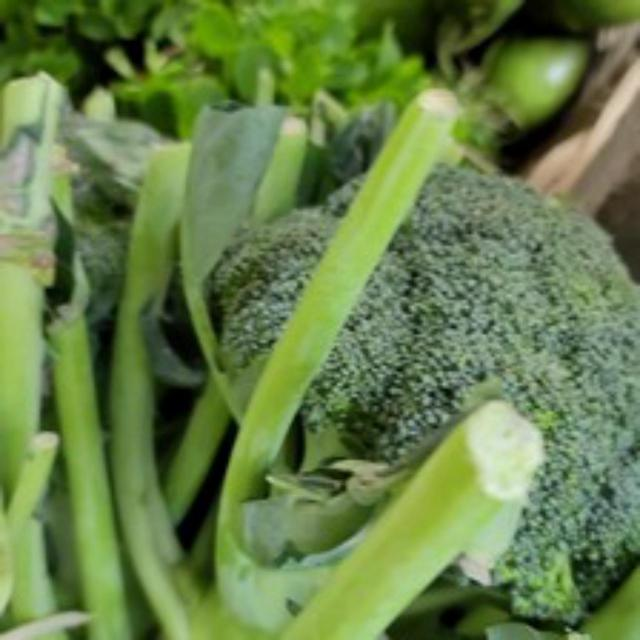broccoli: (200, 134, 637, 611)
